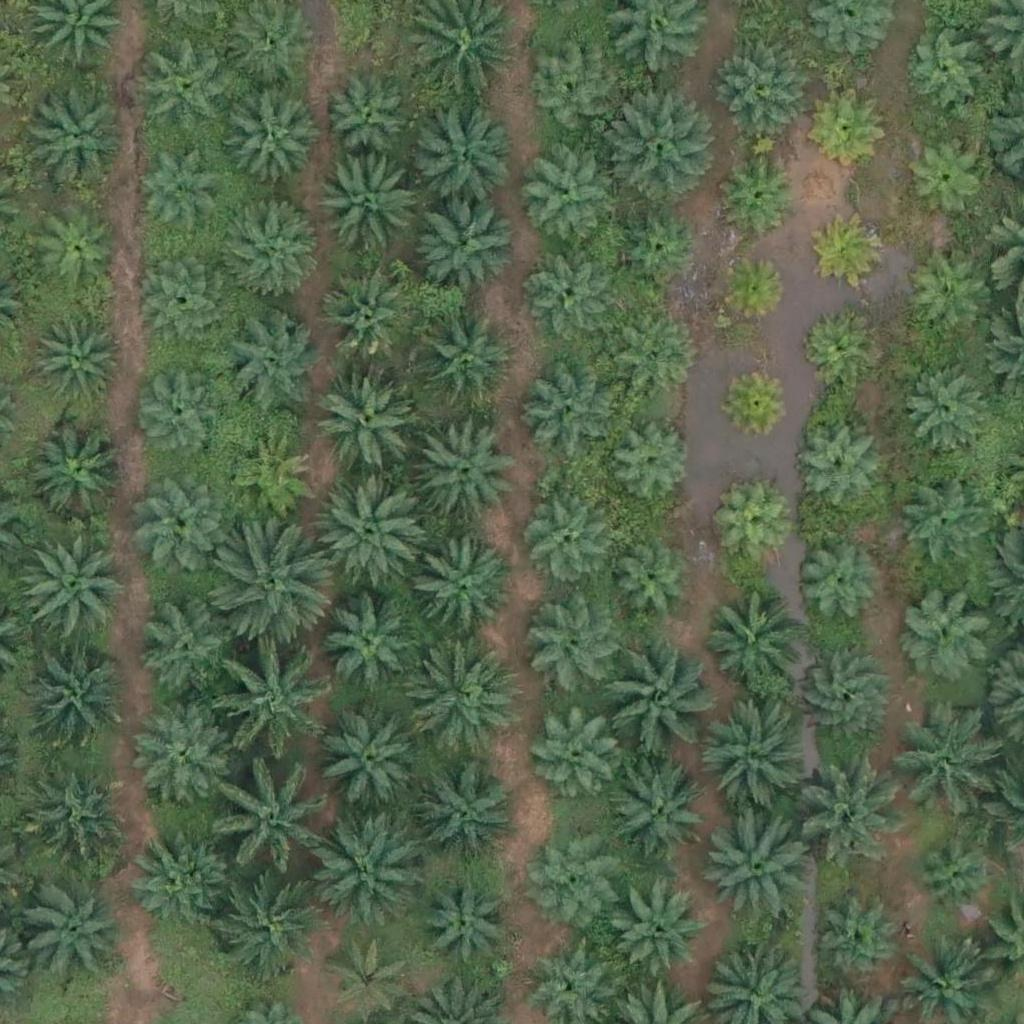Kelapa_Sawit: (695, 807, 808, 921), (404, 537, 517, 650), (405, 646, 518, 759), (315, 703, 428, 816), (603, 88, 716, 201), (214, 529, 327, 642), (698, 703, 810, 817), (792, 748, 904, 861), (596, 642, 708, 755), (316, 481, 428, 594), (313, 819, 425, 932), (9, 528, 121, 641), (216, 654, 328, 767), (216, 772, 328, 885), (211, 870, 323, 983), (889, 715, 989, 816), (702, 591, 802, 692), (605, 759, 705, 860), (526, 596, 626, 697), (415, 416, 515, 517), (322, 596, 422, 697), (139, 706, 239, 807), (126, 825, 226, 926), (22, 770, 122, 871), (411, 108, 511, 209), (416, 191, 516, 292), (316, 364, 416, 465), (415, 308, 515, 409), (522, 360, 622, 461), (318, 156, 418, 257), (222, 193, 322, 294), (27, 84, 127, 185), (896, 581, 996, 681), (794, 649, 894, 749), (143, 599, 243, 699), (27, 423, 127, 523), (24, 652, 124, 752), (24, 884, 124, 984), (223, 311, 323, 411), (139, 39, 239, 139), (416, 764, 515, 865), (131, 367, 219, 456), (910, 832, 998, 920), (791, 423, 879, 511), (617, 892, 705, 980), (517, 495, 605, 583), (613, 203, 701, 291), (613, 321, 701, 409), (899, 131, 987, 219), (904, 254, 992, 342), (523, 159, 611, 247), (524, 251, 612, 339), (326, 67, 414, 155), (134, 152, 222, 240), (138, 256, 226, 344), (40, 319, 128, 407), (896, 480, 983, 569), (793, 539, 880, 627), (815, 901, 902, 989), (609, 419, 696, 507), (606, 543, 693, 631), (529, 826, 616, 914), (532, 711, 619, 799), (423, 877, 510, 965), (138, 472, 225, 560), (902, 29, 989, 117), (903, 363, 990, 451), (717, 39, 804, 127), (529, 48, 616, 136), (321, 273, 408, 361), (230, 97, 317, 185), (34, 206, 121, 294), (229, 433, 316, 521), (798, 309, 873, 385), (715, 489, 790, 565), (720, 362, 795, 438), (813, 213, 888, 289), (723, 155, 798, 230), (715, 252, 790, 327), (813, 91, 888, 166)
